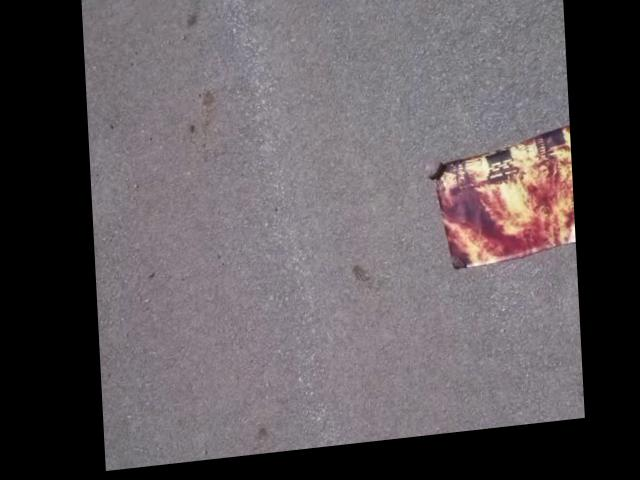fire-poster: (422, 135, 572, 286)
